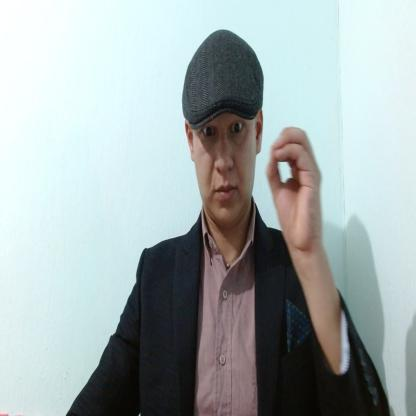O: (264, 122, 324, 256)
